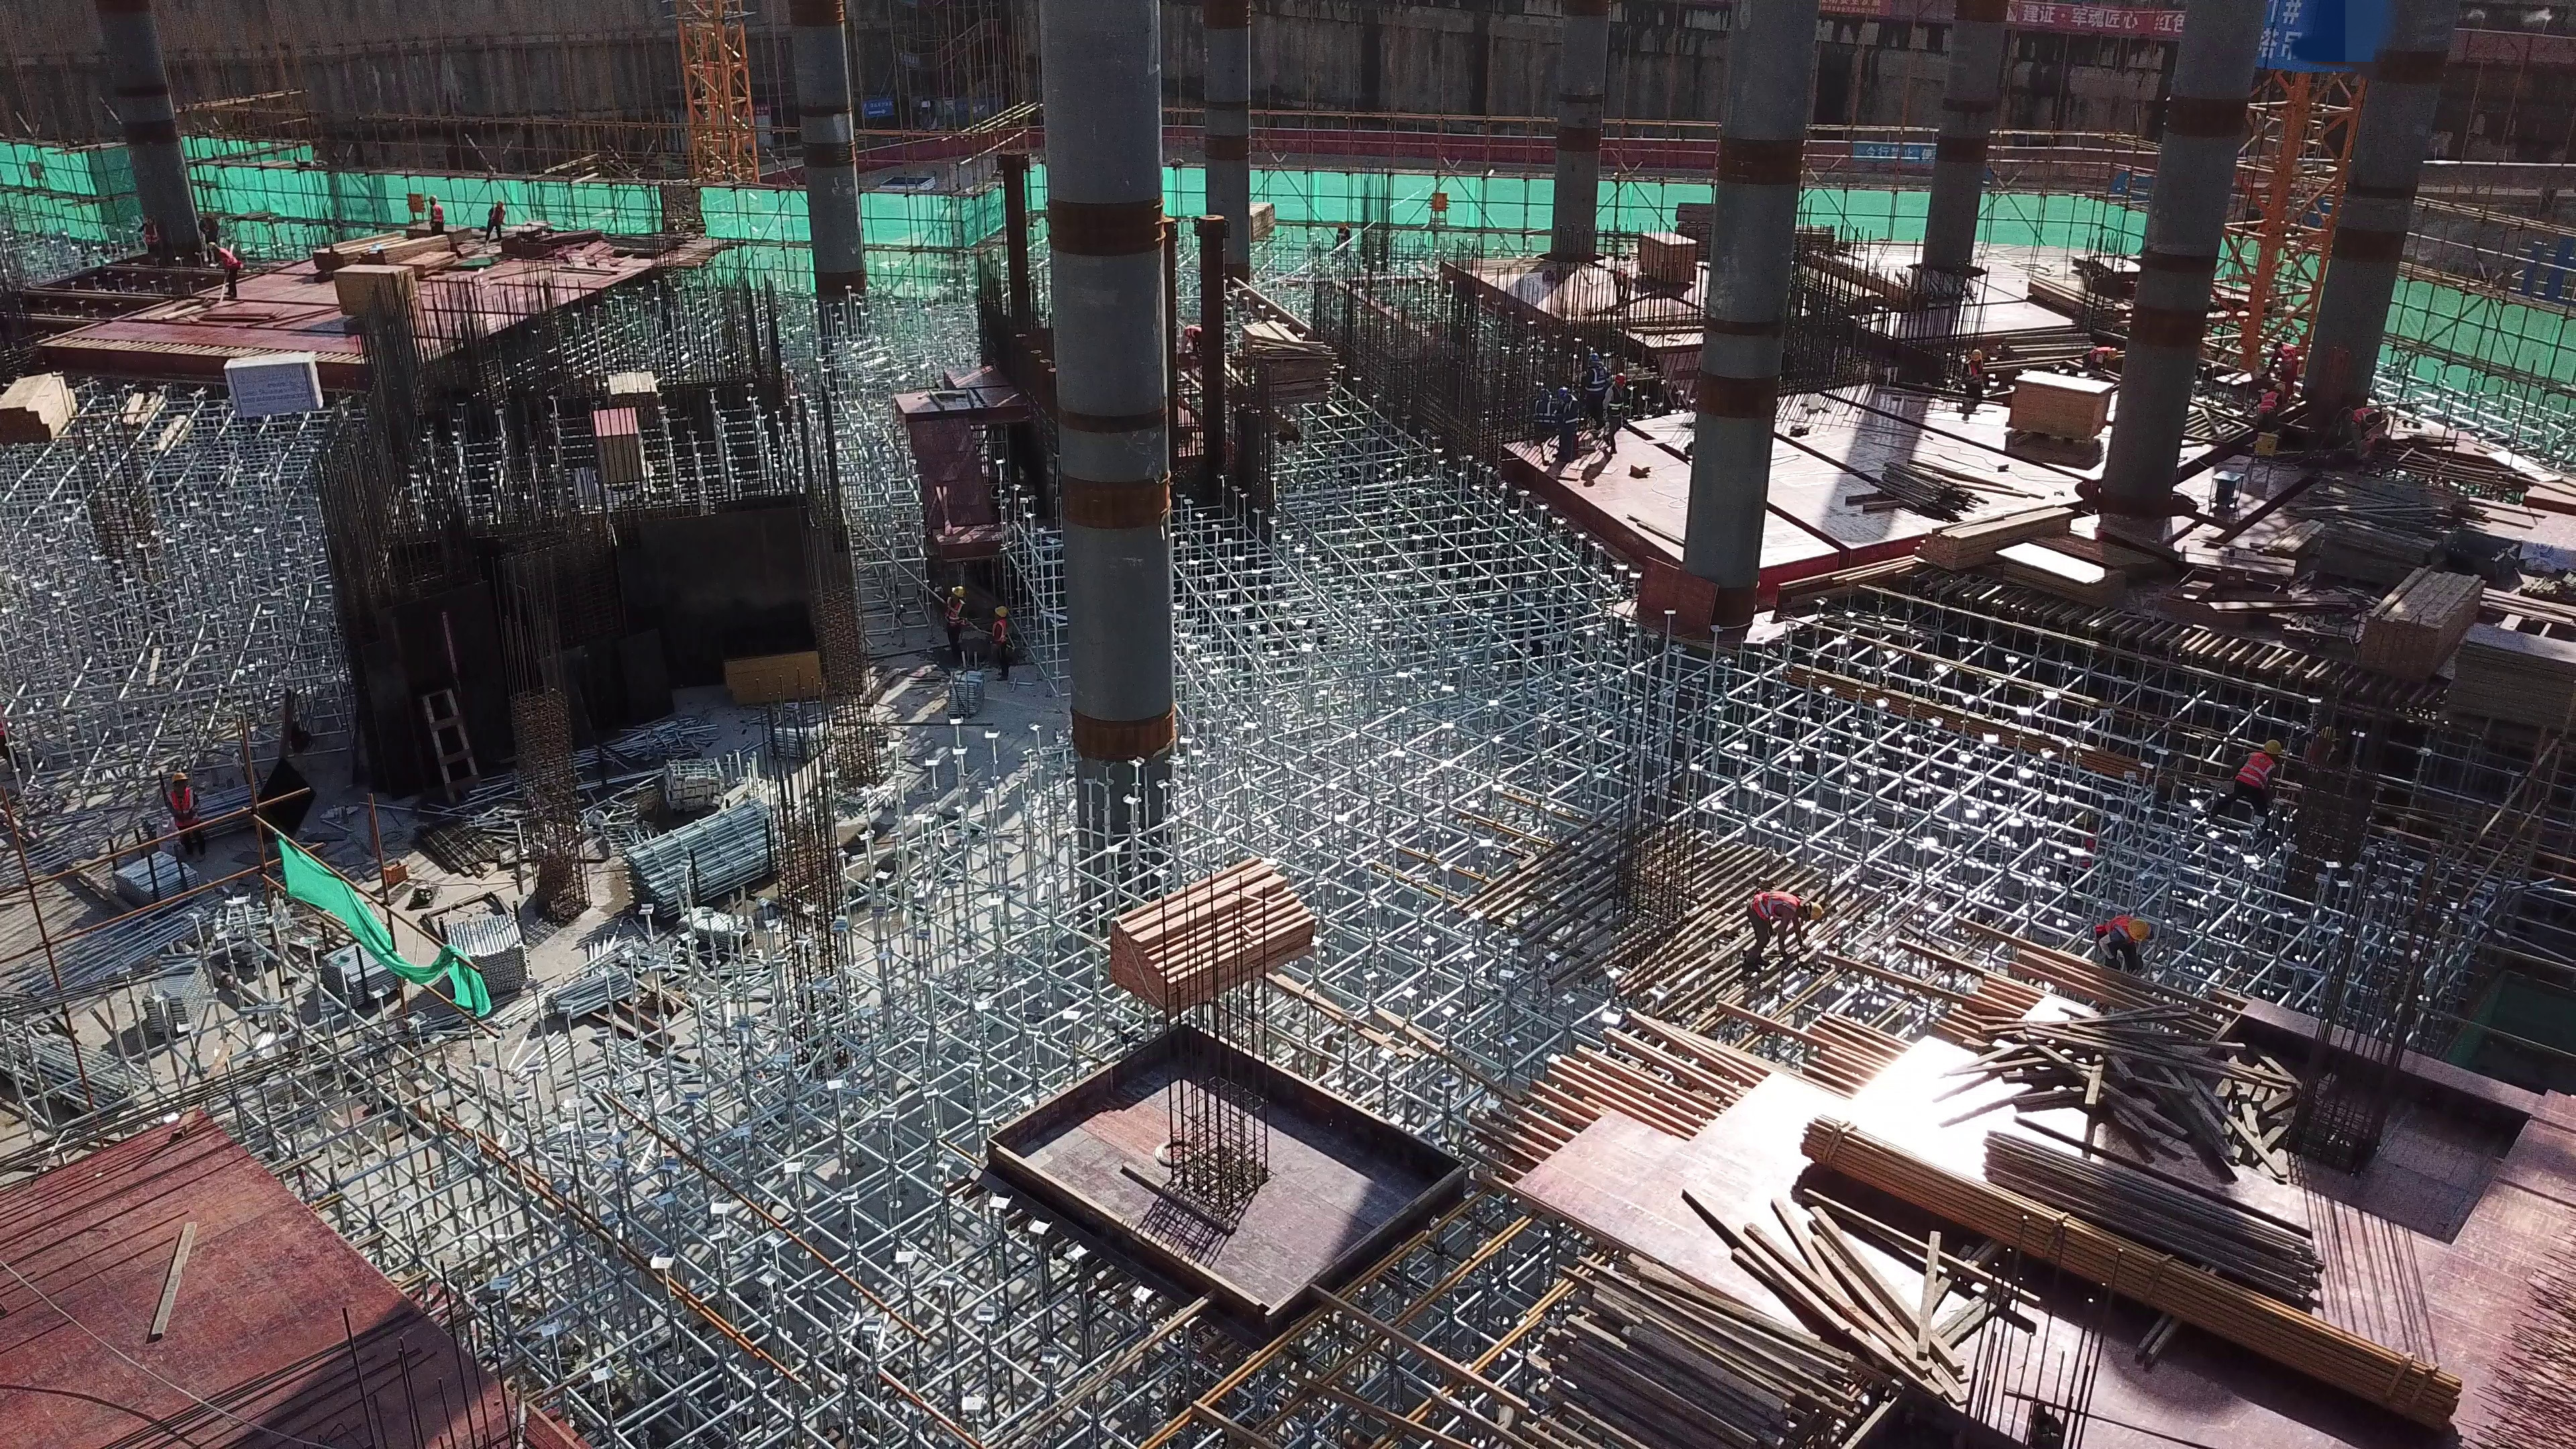helmet: (2128, 917, 2151, 944), (2316, 725, 2340, 745), (2265, 738, 2285, 757), (1807, 899, 1824, 920), (1585, 351, 1603, 368), (993, 603, 1006, 620), (948, 584, 963, 599), (1611, 372, 1625, 386), (1556, 386, 1570, 399), (168, 773, 188, 782), (2106, 347, 2117, 360), (1968, 350, 1982, 362)
person: (1738, 894, 1825, 973), (2223, 739, 2286, 826), (167, 771, 207, 861), (2096, 914, 2152, 975), (2267, 335, 2312, 404), (930, 583, 969, 655), (201, 241, 239, 300), (1603, 375, 1627, 457), (1557, 390, 1583, 466), (987, 606, 1012, 681), (1584, 351, 1606, 430), (1957, 348, 1988, 402), (2074, 343, 2115, 376), (1532, 386, 1555, 444), (482, 203, 508, 248), (424, 195, 449, 235), (2261, 385, 2284, 427), (136, 219, 161, 258)
vest: (2233, 751, 2277, 800), (1744, 890, 1801, 928), (169, 788, 197, 831), (1551, 398, 1576, 433), (2099, 914, 2125, 937), (1533, 400, 1553, 428), (2277, 345, 2297, 376), (1964, 358, 1984, 386), (1605, 388, 1624, 415), (2349, 409, 2378, 426), (213, 246, 235, 266), (2259, 391, 2278, 415), (1587, 370, 1604, 396), (945, 599, 962, 626), (138, 225, 158, 247), (991, 621, 1006, 645), (2086, 345, 2103, 364), (428, 205, 441, 225)
